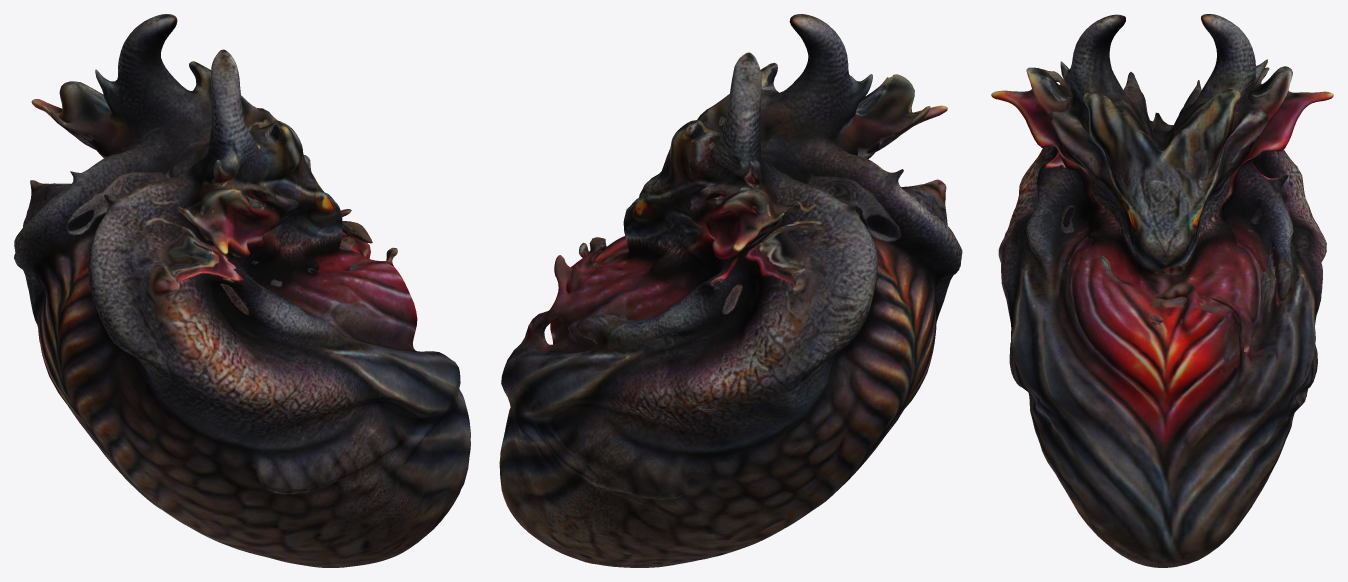
The model's file is heart.fbx.
The picture shows the model from 3 angles, left to right: view 1: azimuth 30°, elevation 25°; view 2: azimuth 150°, elevation 25°; view 3: azimuth 270°, elevation 25°; orthographic projection. The views are drawn at different scales.
Visible parts, largest first — view 1: mesh; view 2: mesh; view 3: mesh.
Boxes of the visible parts, left/top/right/bottom form: mesh: left=14, top=14, right=470, bottom=567; mesh: left=499, top=14, right=962, bottom=567; mesh: left=991, top=14, right=1333, bottom=567.
Bounding box in the file's own units: 569 × 778 × 506.
Materials: 1 (1 with a texture image).
